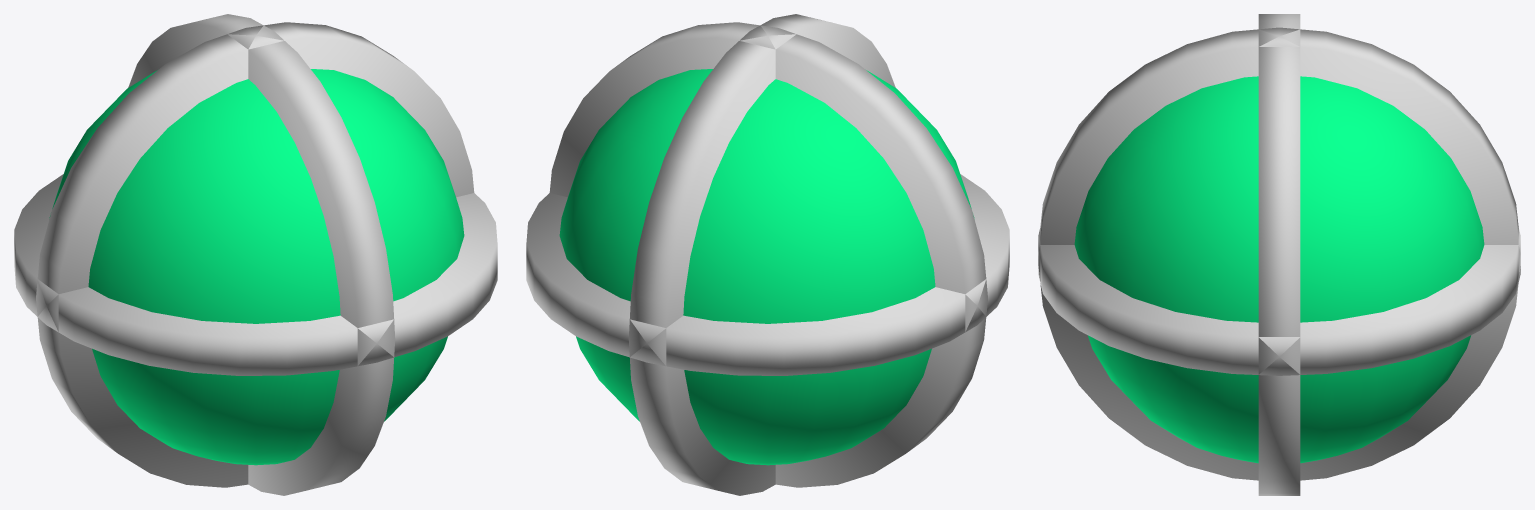
Rendered from Ball-15.dae.
3 views of the same model, side by side, from view 1: azimuth 30°, elevation 25°; view 2: azimuth 150°, elevation 25°; view 3: azimuth 270°, elevation 25° (orthographic).
Parts seen in each view (by area): view 1: Ball; view 2: Ball; view 3: Ball.
Part boxes in pixels (x1=…): Ball: x1=14, y1=14, x2=497, y2=495; Ball: x1=526, y1=14, x2=1009, y2=495; Ball: x1=1038, y1=14, x2=1520, y2=495.
Size of the model in its own units: 0.046 by 0.046 by 0.046.
